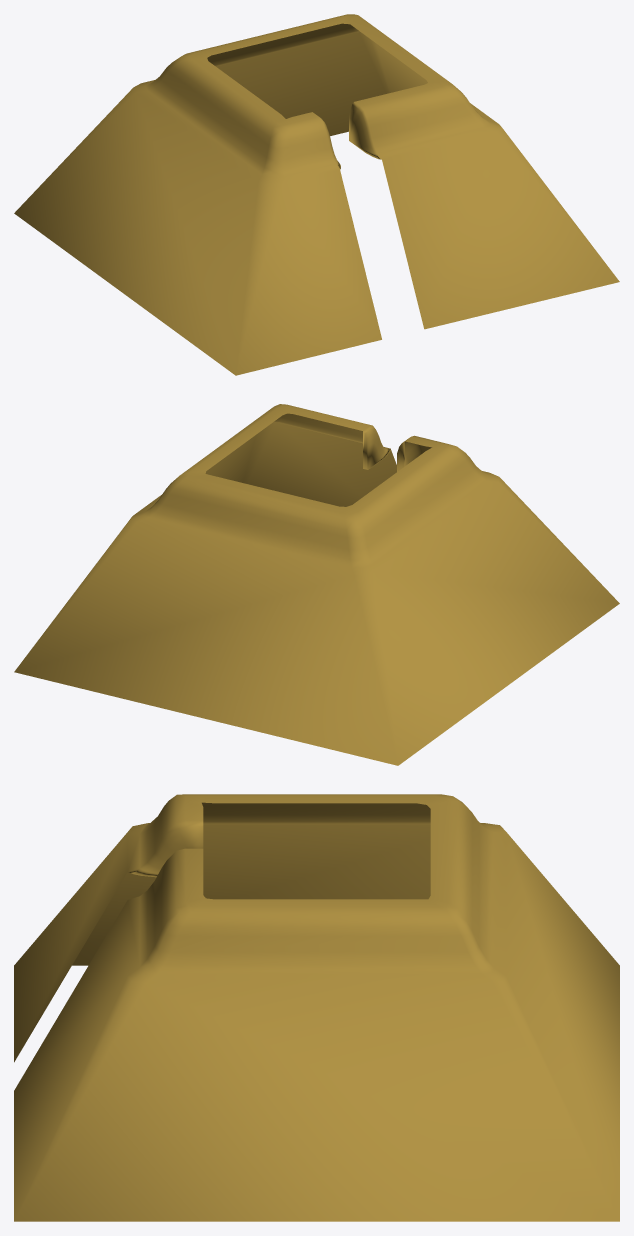
Rendered from germ_storehouse_props.dae.
3 renders of one model, top to bottom at view 1: azimuth 30°, elevation 25°; view 2: azimuth 150°, elevation 25°; view 3: azimuth 270°, elevation 25°, orthographic. The views are drawn at different scales.
Parts seen in each view (by area): view 1: Plane_000; view 2: Plane_000; view 3: Plane_000.
Part boxes in pixels (x1,y1,x2,y2): Plane_000: (14, 14, 619, 375); Plane_000: (14, 404, 619, 765); Plane_000: (14, 794, 619, 1221).
Bounding box in the file's own units: 16 × 16 × 7.06.
